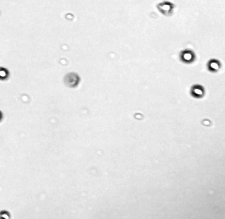Dead Cell: (64, 73, 82, 87)
Living Cell: (190, 84, 205, 98), (159, 1, 174, 14), (180, 50, 194, 63), (207, 59, 221, 72), (1, 67, 9, 80)
